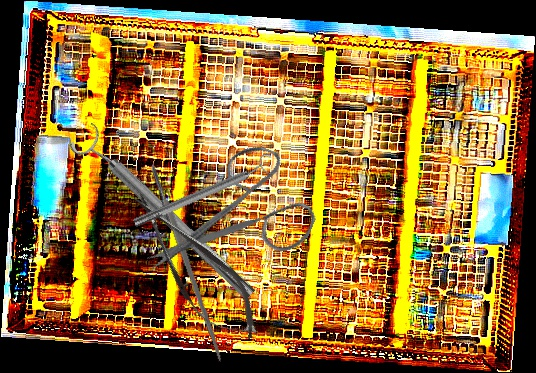Fixation Ring: (67, 120, 263, 310), (129, 151, 279, 234)
Iris Scissors: (143, 122, 334, 322)
Micro Scissor: (114, 178, 274, 356)
Scalpel Handle: (148, 161, 226, 364)
